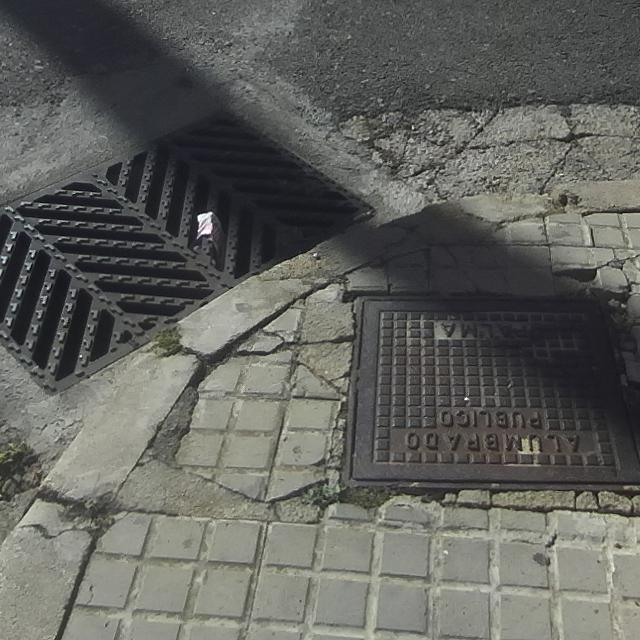calcada_quebrada: (553, 252, 640, 295), (235, 327, 355, 357), (294, 361, 349, 400), (440, 246, 479, 292)
